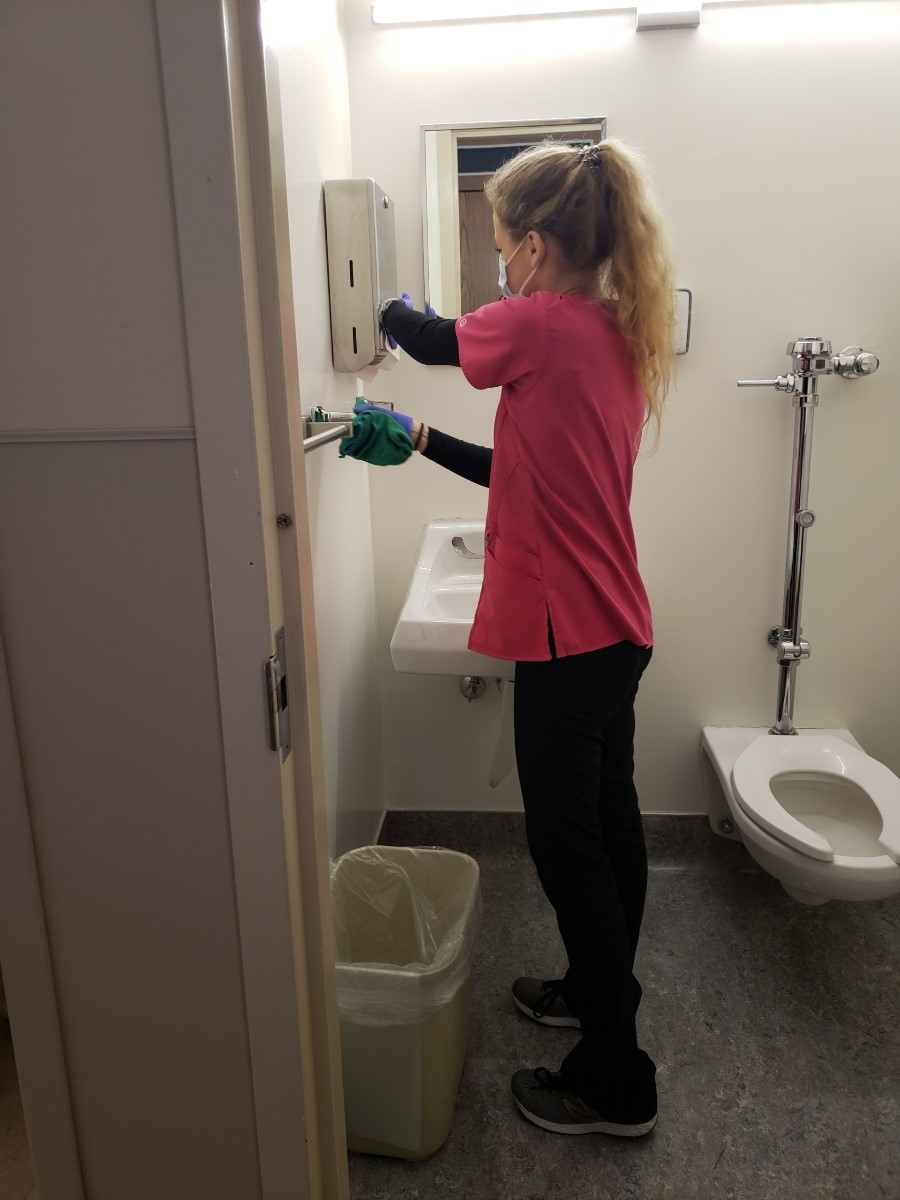dispenser: (320, 173, 409, 376)
faucet: (449, 535, 483, 566)
restroom_assist_bar: (296, 419, 360, 460)
sink: (393, 505, 517, 687)
staff: (363, 136, 710, 1144)
toilet: (692, 711, 900, 960)
toilet_handle: (725, 377, 796, 396)
waste_bin: (329, 820, 500, 1165)
